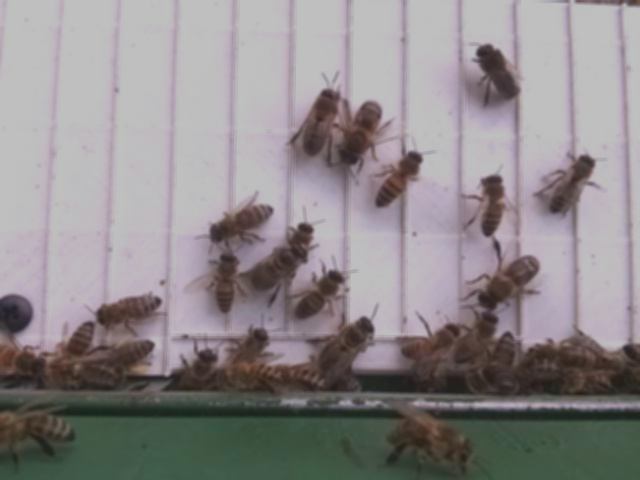Drone: (315, 312, 380, 377), (474, 251, 542, 313), (463, 40, 526, 103), (335, 97, 385, 167), (297, 84, 343, 158), (248, 241, 311, 295)
Worker: (207, 197, 280, 245), (290, 265, 349, 323), (548, 150, 600, 215), (396, 319, 462, 369), (374, 148, 424, 210), (455, 305, 505, 365), (98, 290, 166, 330), (473, 169, 508, 239), (98, 335, 160, 372), (57, 318, 96, 372), (223, 359, 289, 390), (530, 341, 602, 369), (211, 250, 241, 312)
